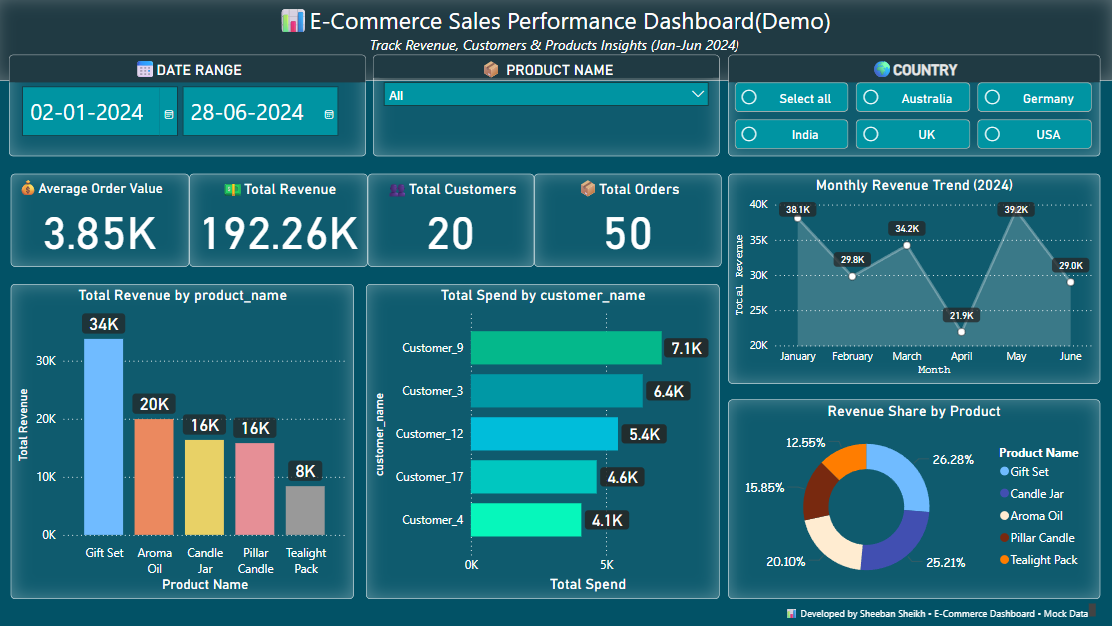

The page's visual inventory and layout, read from the dashboard file:
{"tool":"powerbi","page":{"name":"Page 1","canvas":[1280,720],"ordinal":0},"visuals":[{"type":"textbox","box":[0,0,1280,96],"z":0},{"type":"areaChart","title":"Monthly Revenue Trend (2024)","fields":{"Category":["Orders (1).order_date.Variation.Date Hierarchy.Month","Orders (1).order_date.Variation.Date Hierarchy.Day"],"Y":["Order_Items.Total Revenue"]},"box":[838,202,426,240],"z":1000},{"type":"card","title":"💵Total Revenue","fields":{"Values":["Order_Items.Total Revenue"]},"box":[222,202,204,106],"z":2000},{"type":"card","title":"📦Total Orders","fields":{"Values":["Orders (1).Total Orders"]},"box":[616,202,214,106],"z":3000},{"type":"barChart","fields":{"Category":["Customers.customer_name"],"Y":["Orders (1).Total Spend"]},"box":[424,328,404,360],"z":4000},{"type":"card","title":"👥Total Customers ","fields":{"Values":["Customers.Total Customers"]},"box":[426,202,190,106],"z":5000},{"type":"clusteredColumnChart","fields":{"Category":["Order_Items.product_name"],"Y":["Order_Items.Total Revenue"]},"box":[18,328,392,360],"z":6000},{"type":"card","title":"💰Average Order Value","fields":{"Values":["Orders (1).Average Order Value"]},"box":[18,202,204,106],"z":7000},{"type":"donutChart","title":" Revenue Share by Product","fields":{"Category":["Order_Items.product_name"],"Y":["Order_Items.Total Revenue"]},"box":[838,460,426,228],"z":8000},{"type":"advancedSlicerVisual","title":"🌍COUNTRY","fields":{"Values":["Customers.country"]},"box":[838,66,426,116],"z":9000},{"type":"slicer","title":"📦 PRODUCT NAME","fields":{"Values":["Order_Items.product_name"]},"box":[432,66,396,116],"z":10000},{"type":"slicer","title":"📅DATE RANGE","fields":{"Values":["Orders (1).order_date"]},"box":[16,66,408,116],"z":11000},{"type":"textbox","box":[874,688,390,32],"z":12000}]}

Visuals, with their boxes in screenshot pixels (x1, y1, x2, y2), scaled from the page's 1280x720 canvas onto the 1112x626 screenshot:
textbox: box(0, 0, 1111, 83)
"Monthly Revenue Trend (2024)" areaChart: box(728, 176, 1098, 384)
"💵Total Revenue" card: box(193, 176, 370, 268)
"📦Total Orders" card: box(535, 176, 721, 268)
barChart - Customers.customer_name x Orders (1).Total Spend: box(368, 285, 719, 598)
"👥Total Customers " card: box(370, 176, 535, 268)
clusteredColumnChart - Order_Items.product_name x Order_Items.Total Revenue: box(16, 285, 356, 598)
"💰Average Order Value" card: box(16, 176, 193, 268)
" Revenue Share by Product" donutChart: box(728, 400, 1098, 598)
"🌍COUNTRY" advancedSlicerVisual: box(728, 57, 1098, 158)
"📦 PRODUCT NAME" slicer: box(375, 57, 719, 158)
"📅DATE RANGE" slicer: box(14, 57, 368, 158)
textbox: box(759, 598, 1098, 625)
